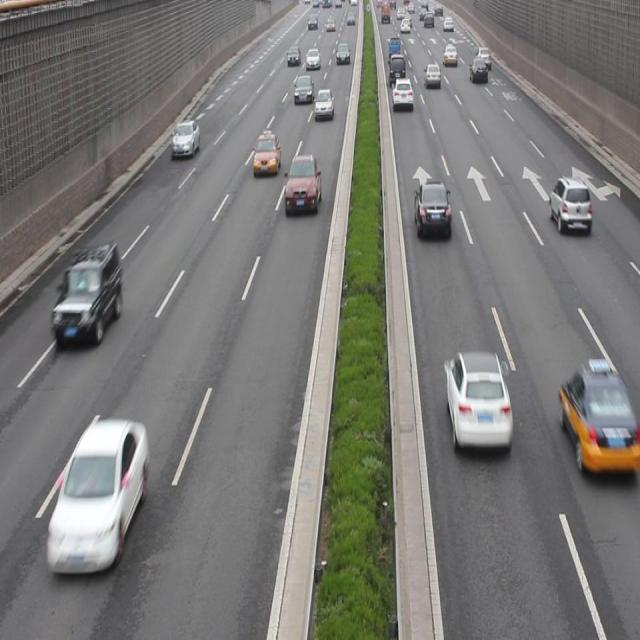car: (45, 419, 148, 574), (557, 360, 629, 477), (49, 245, 121, 351), (444, 353, 509, 454), (546, 177, 591, 234), (283, 154, 320, 216), (413, 182, 451, 239), (171, 116, 199, 160), (253, 132, 279, 179)
